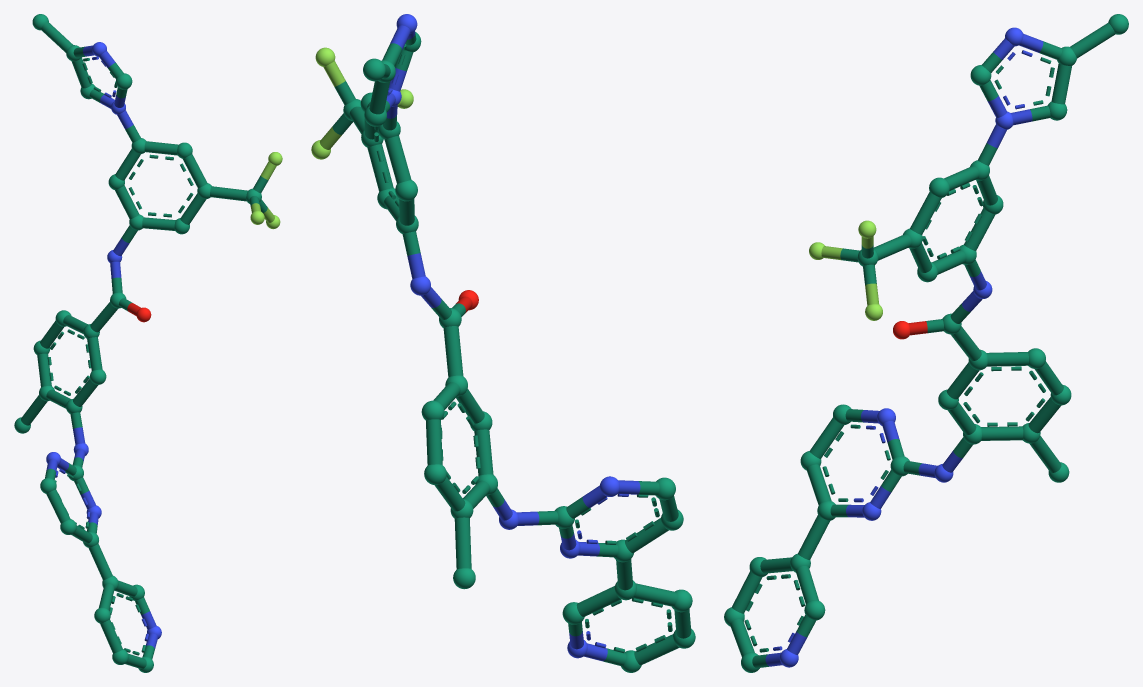
The model's file is inhibitor.glb.
3 renders of one model, left to right at view 1: azimuth 30°, elevation 25°; view 2: azimuth 150°, elevation 25°; view 3: azimuth 270°, elevation 25°, orthographic. The views are drawn at different scales.
Visible parts, largest first — view 1: NILX_nilinitob, NILX_Mesh_2; view 2: NILX_nilinitob, NILX_Mesh_2; view 3: NILX_nilinitob, NILX_Mesh_2.
Part boxes in pixels (x1=…): NILX_nilinitob: x1=21, y1=22, x2=276, y2=668; NILX_Mesh_2: x1=14, y1=14, x2=282, y2=672; NILX_nilinitob: x1=319, y1=25, x2=691, y2=666; NILX_Mesh_2: x1=311, y1=14, x2=695, y2=672; NILX_nilinitob: x1=730, y1=22, x2=1115, y2=668; NILX_Mesh_2: x1=724, y1=14, x2=1128, y2=672.
Bounding box in the file's own units: 1.11 × 2.29 × 1.23.
